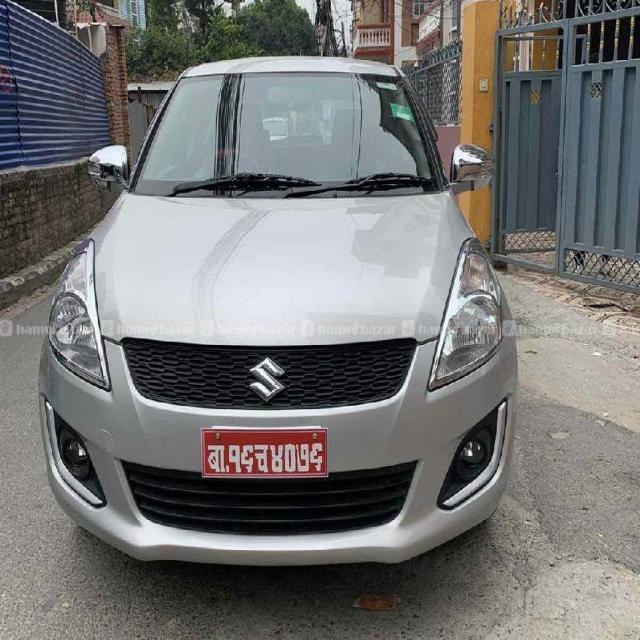License-plate: (200, 432, 329, 478)
